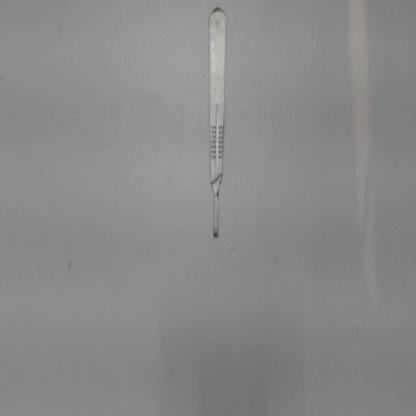No.4 BP Handle: (202, 3, 231, 250)
